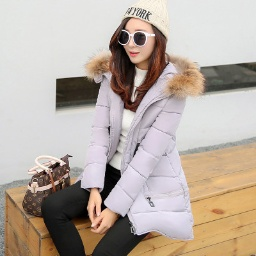face: (109, 15, 169, 93)
